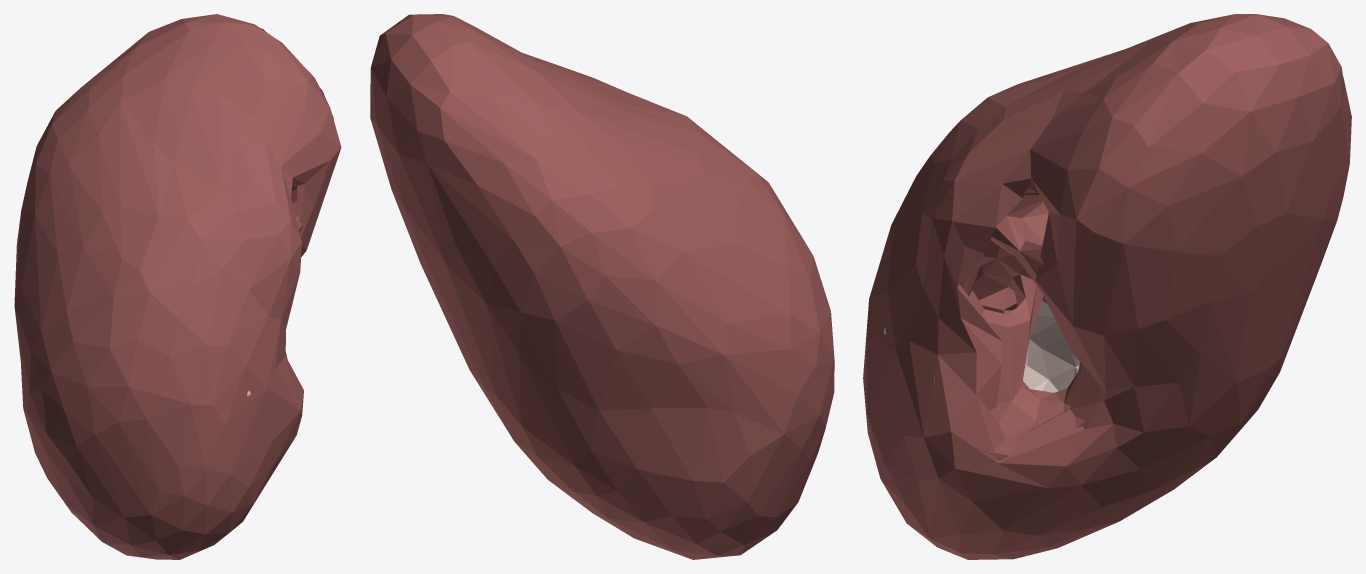
File: VH_F_Kidney_R_0.1.glb
3 views of the same model, side by side, from view 1: azimuth 30°, elevation 25°; view 2: azimuth 150°, elevation 25°; view 3: azimuth 270°, elevation 25° (orthographic). The views are drawn at different scales.
Visible parts, largest first — view 1: VH_F_kidney_capsule_R; view 2: VH_F_kidney_capsule_R; view 3: VH_F_kidney_capsule_R, VH_F_hilum_of_kidney_R, VH_F_renal_column_R.
Boxes of the visible parts, x1,y1,x2,y2 form: VH_F_kidney_capsule_R: (14,14,341,559); VH_F_kidney_capsule_R: (370,14,834,559); VH_F_kidney_capsule_R: (863,14,1351,559); VH_F_hilum_of_kidney_R: (934,179,1089,460); VH_F_renal_column_R: (1012,301,1079,392).
Bounding box in the file's own units: 0.0736 × 0.0983 × 0.0698.
